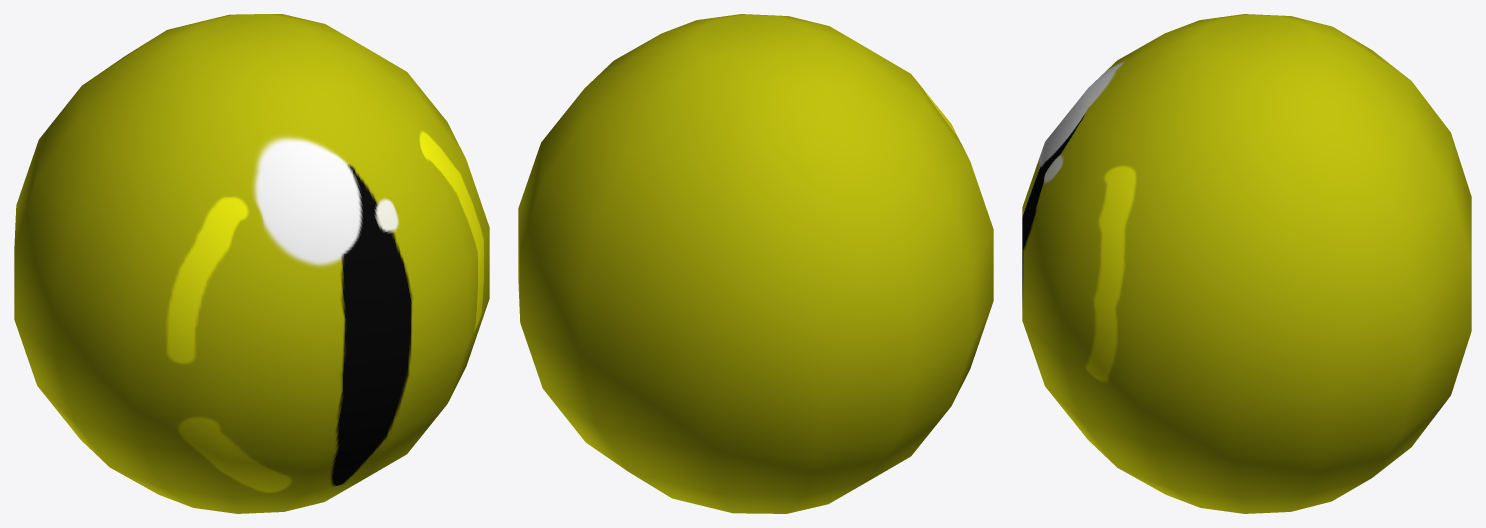
Rendered from Cat Eye.fbx.
3 renders of one model, left to right at view 1: azimuth 30°, elevation 25°; view 2: azimuth 150°, elevation 25°; view 3: azimuth 270°, elevation 25°, orthographic.
Visible parts, largest first — view 1: Eye; view 2: Eye; view 3: Eye.
Boxes of the visible parts, <box> form: Eye: <box>14,14,489,513</box>; Eye: <box>518,14,993,513</box>; Eye: <box>1022,14,1471,513</box>.
Bounding box in the file's own units: 23.05 × 24.04 × 21.77.
1 material, 1 textured.
